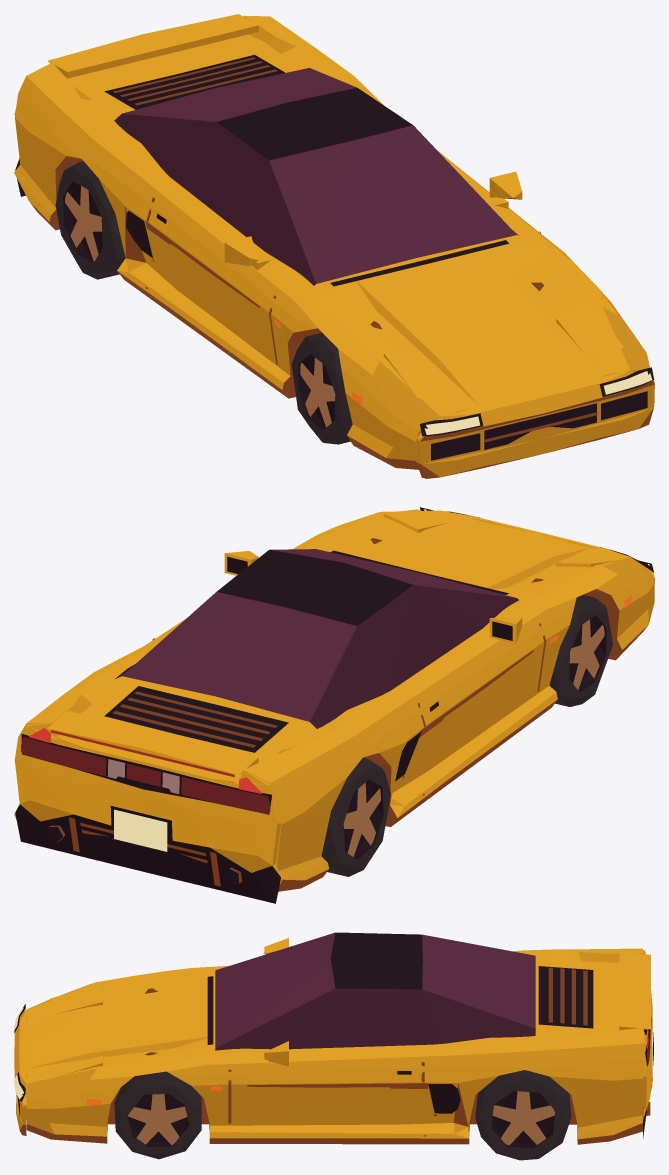
The model's file is nsx_lod_v1.glb.
The picture shows the model from 3 angles, top to bottom: view 1: azimuth 30°, elevation 25°; view 2: azimuth 150°, elevation 25°; view 3: azimuth 270°, elevation 25°; orthographic projection. The views are drawn at different scales.
Visible parts, largest first — view 1: body, glass, wheel_RR, wheel_FR, lights; view 2: body, glass, lights, wheel_RR, wheel_FR; view 3: body, glass, wheel_RL, wheel_FL, lights.
Boxes of the visible parts, box(x1,y1,x2,y2) form: body: box(14, 14, 654, 478); glass: box(114, 68, 518, 285); wheel_RR: box(55, 161, 125, 279); wheel_FR: box(291, 332, 352, 444); lights: box(274, 319, 654, 436); body: box(14, 509, 654, 903); glass: box(115, 549, 518, 728); lights: box(21, 507, 653, 813); wheel_RR: box(321, 758, 390, 876); wheel_FR: box(549, 595, 612, 706); body: box(14, 938, 653, 1144); glass: box(215, 932, 535, 1050); wheel_RL: box(475, 1070, 571, 1160); wheel_FL: box(114, 1071, 201, 1159); lights: box(14, 1004, 650, 1105).
Bounding box in the file's own units: 1.86 × 1.15 × 4.44.
